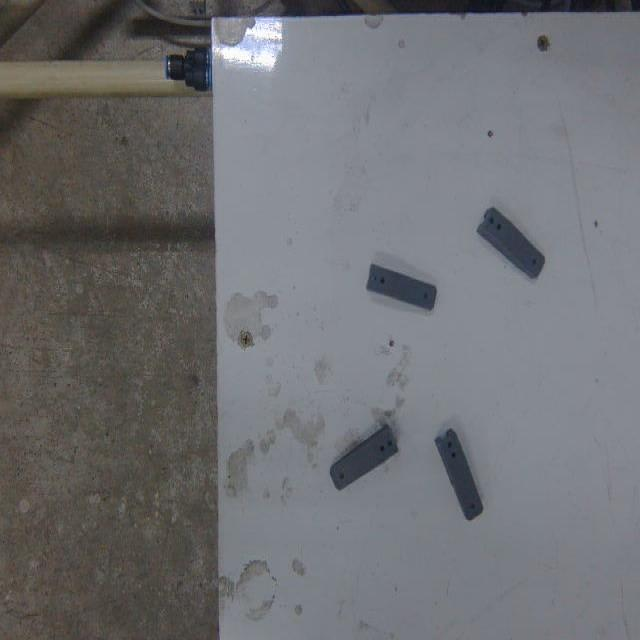grey: (479, 206, 547, 285), (329, 421, 401, 495), (436, 426, 486, 526), (366, 263, 438, 318)
head: (468, 497, 478, 515), (422, 288, 432, 304), (528, 255, 538, 267), (337, 473, 346, 484)
